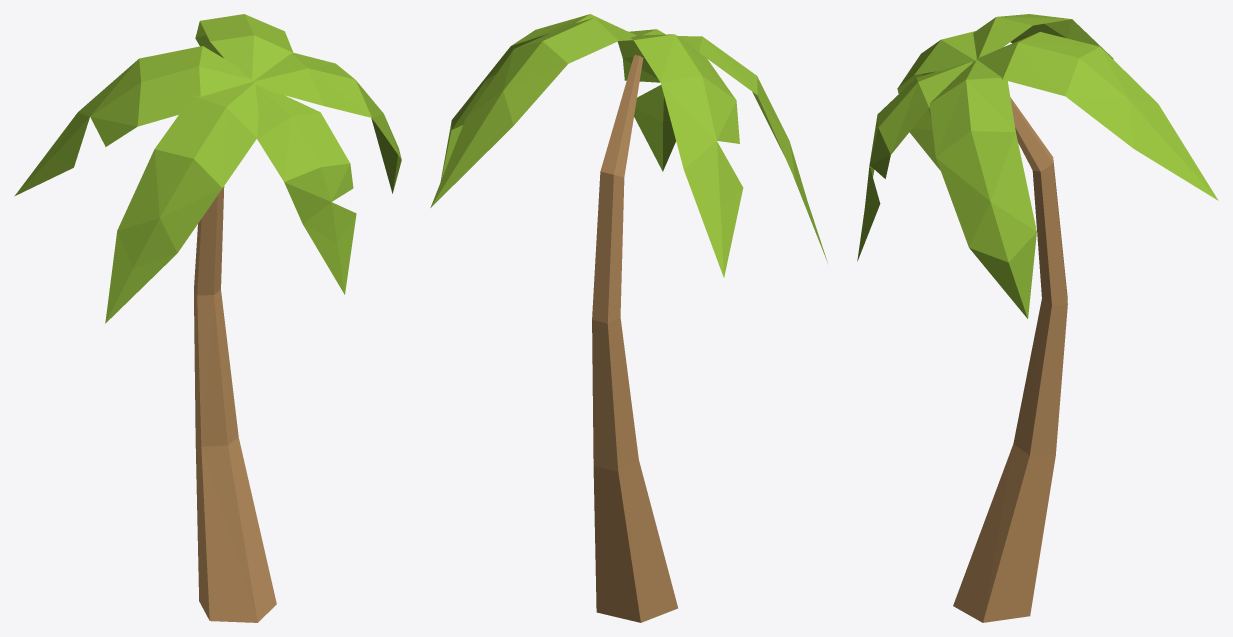
The model's file is tree_06.FBX.
The picture shows the model from 3 angles, left to right: view 1: azimuth 30°, elevation 25°; view 2: azimuth 150°, elevation 25°; view 3: azimuth 270°, elevation 25°; orthographic projection. The views are drawn at different scales.
Parts seen in each view (by area): view 1: tree_06; view 2: tree_06; view 3: tree_06.
Part boxes in pixels (box(x1,y1,x2,y2)): tree_06: box(14, 14, 401, 622); tree_06: box(430, 14, 827, 622); tree_06: box(857, 14, 1218, 622).
Size of the model in its own units: 827 by 1341 by 761.
